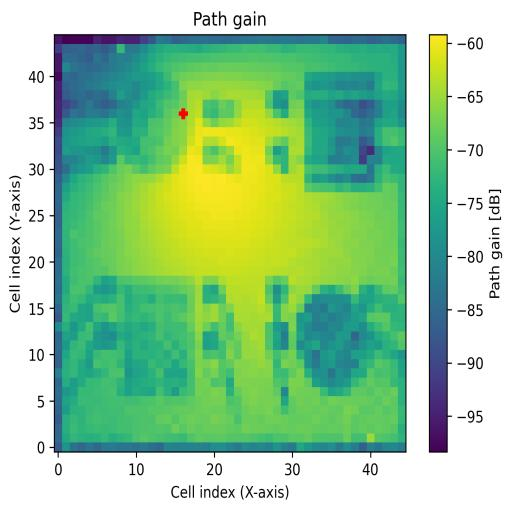Concrete: (305, 72, 383, 191)
Glass: (118, 63, 195, 174)
Metal: (296, 284, 384, 395)
Wood: (117, 276, 195, 398)
